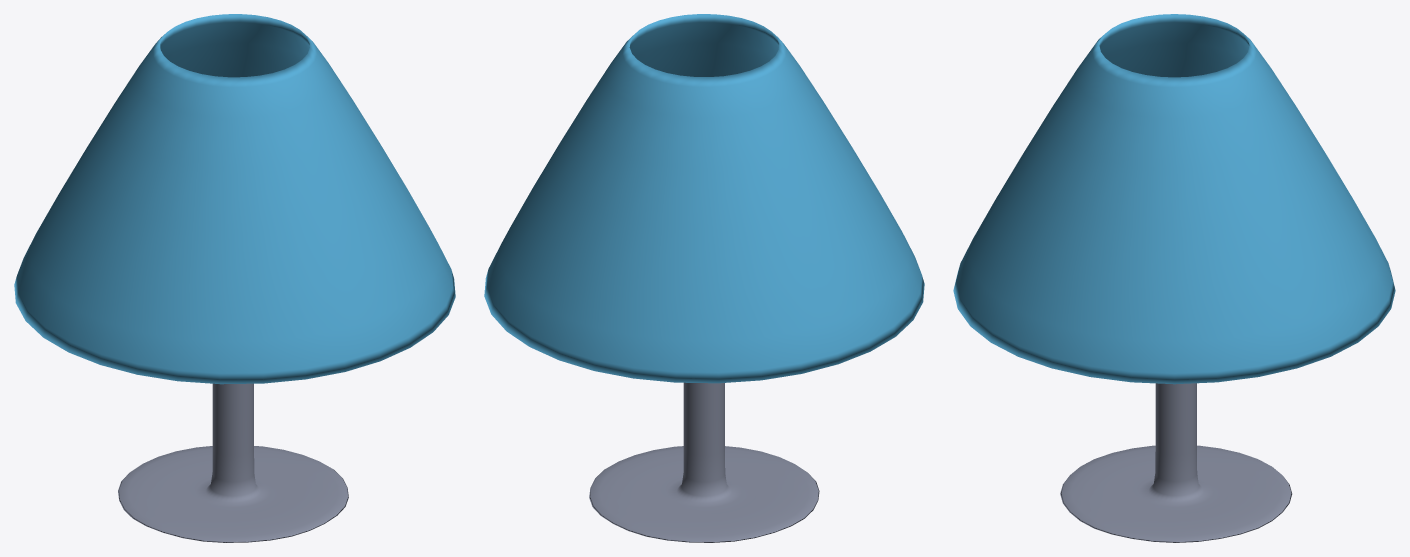
Rendered from Lamp.fbx.
The picture shows the model from 3 angles, left to right: view 1: azimuth 30°, elevation 25°; view 2: azimuth 150°, elevation 25°; view 3: azimuth 270°, elevation 25°; orthographic projection.
Visible parts, largest first — view 1: Lamp, Lamp.001; view 2: Lamp, Lamp.001; view 3: Lamp, Lamp.001.
Boxes of the visible parts, x1,y1,x2,y2 form: Lamp: (14,14,455,384); Lamp.001: (118,383,348,542); Lamp: (484,14,924,383); Lamp.001: (589,382,819,542); Lamp: (953,14,1395,384); Lamp.001: (1060,383,1292,542).
Bounding box in the file's own units: 207 × 233 × 207.
